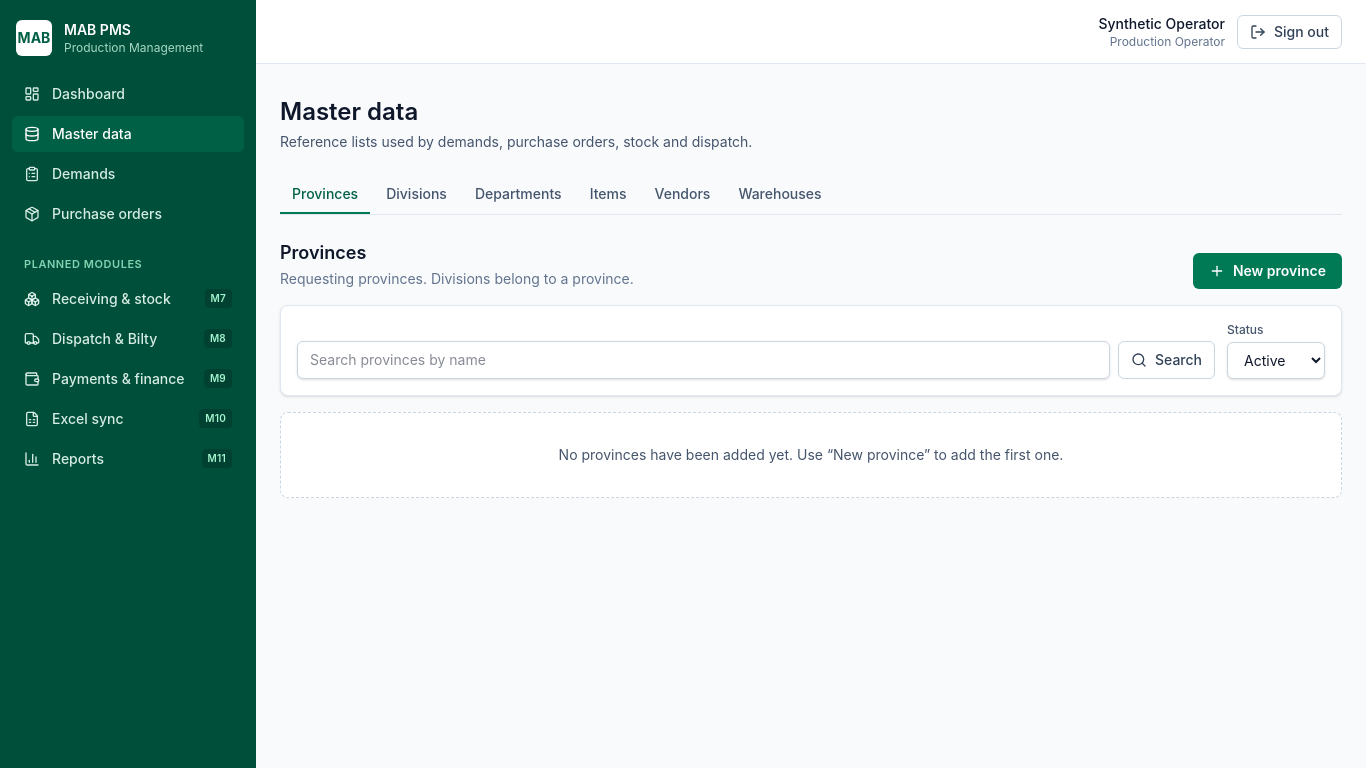
it: Master data — navigation and lists › switches lists with the tabs
Click the link "Departments" at x=518, y=194, box left=475, top=185, right=562, bottom=202
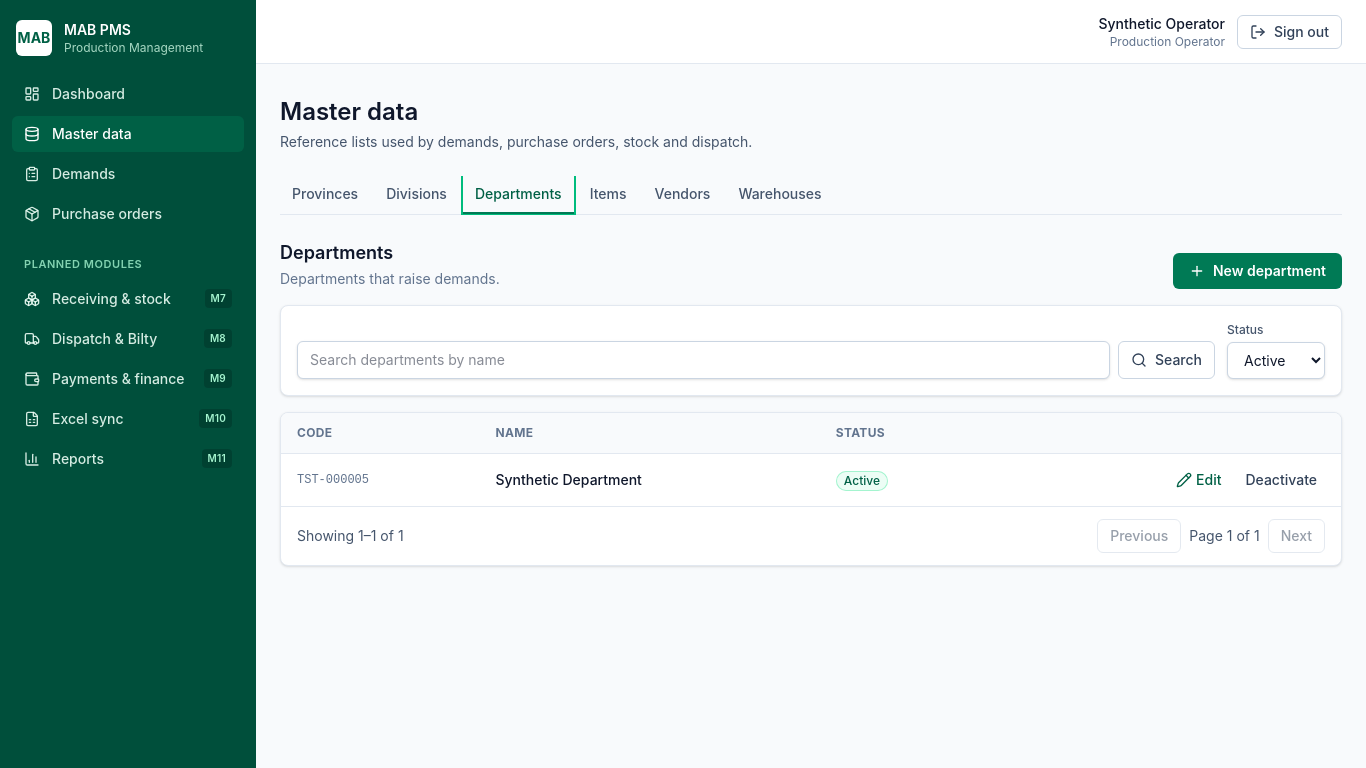
Expected: the cell "Synthetic Department" is shown, left=480, top=454, right=820, bottom=506
